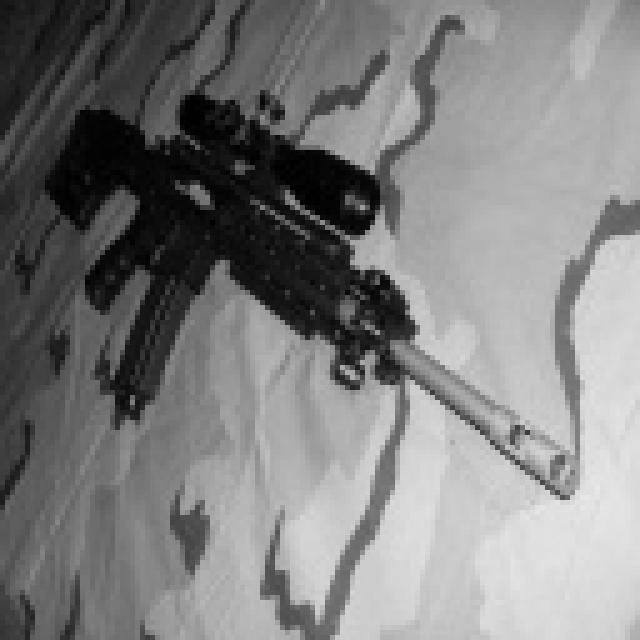Rifle: (0, 0, 594, 548)
